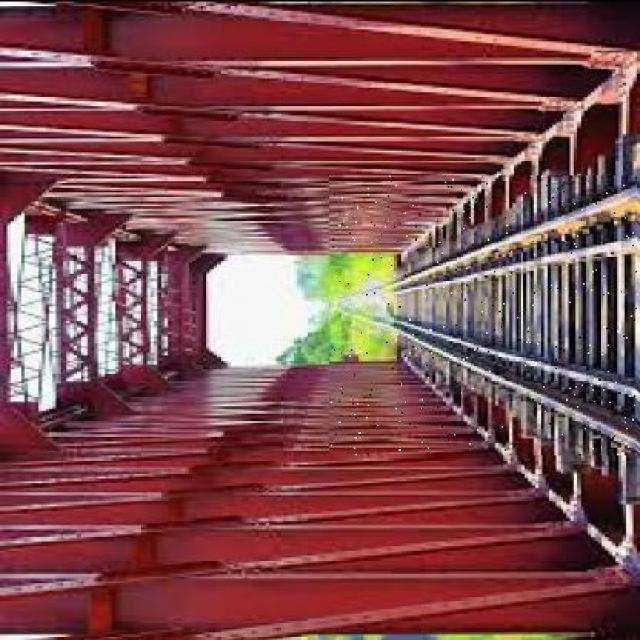rail: (330, 175, 638, 454)
